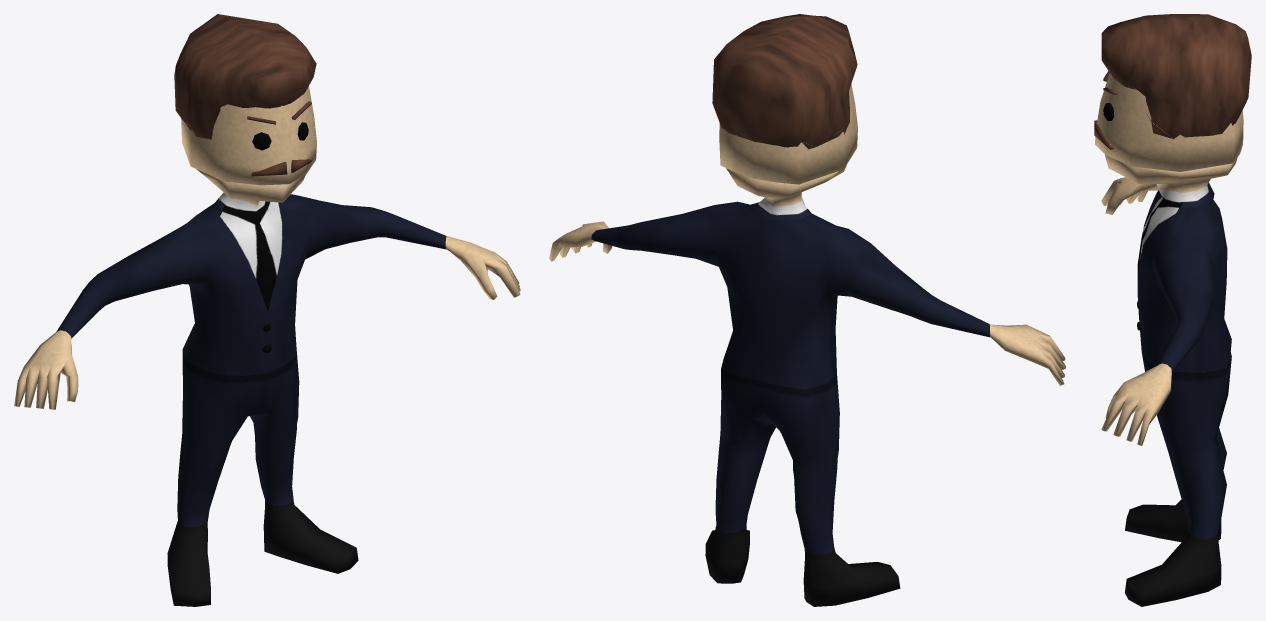
Rendered from MainCharacter.fbx.
3 renders of one model, left to right at view 1: azimuth 30°, elevation 25°; view 2: azimuth 150°, elevation 25°; view 3: azimuth 270°, elevation 25°, orthographic. The views are drawn at different scales.
Visible parts, largest first — view 1: MainChar; view 2: MainChar; view 3: MainChar.
Boxes of the visible parts, bbox=[...] form: MainChar: bbox=[14, 14, 520, 606]; MainChar: bbox=[549, 14, 1065, 606]; MainChar: bbox=[1094, 14, 1251, 606].
Bounding box in the file's own units: 2 × 2.04 × 0.5387.
1 material, 1 textured.
